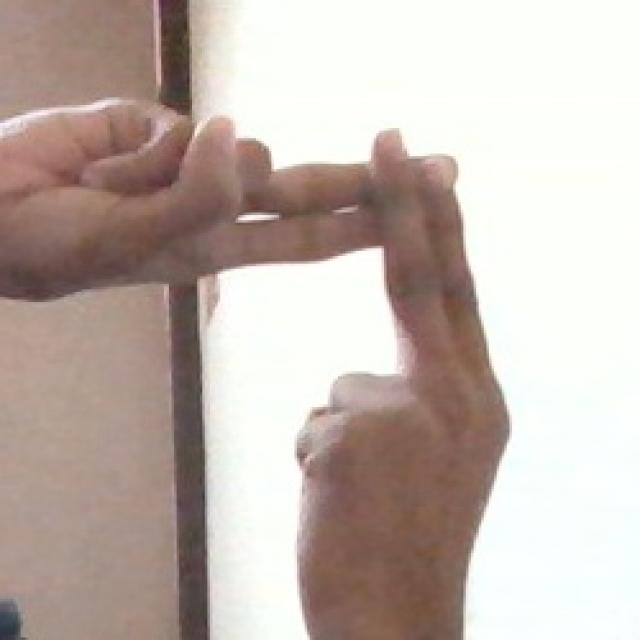Alphabet-F: (29, 89, 510, 622)
